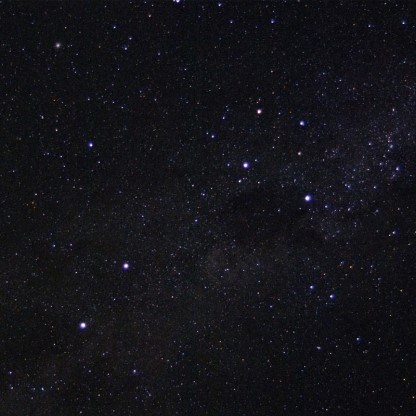Southern Cross: (293, 111, 311, 129), (300, 190, 316, 209), (237, 158, 251, 176), (252, 104, 267, 117)
